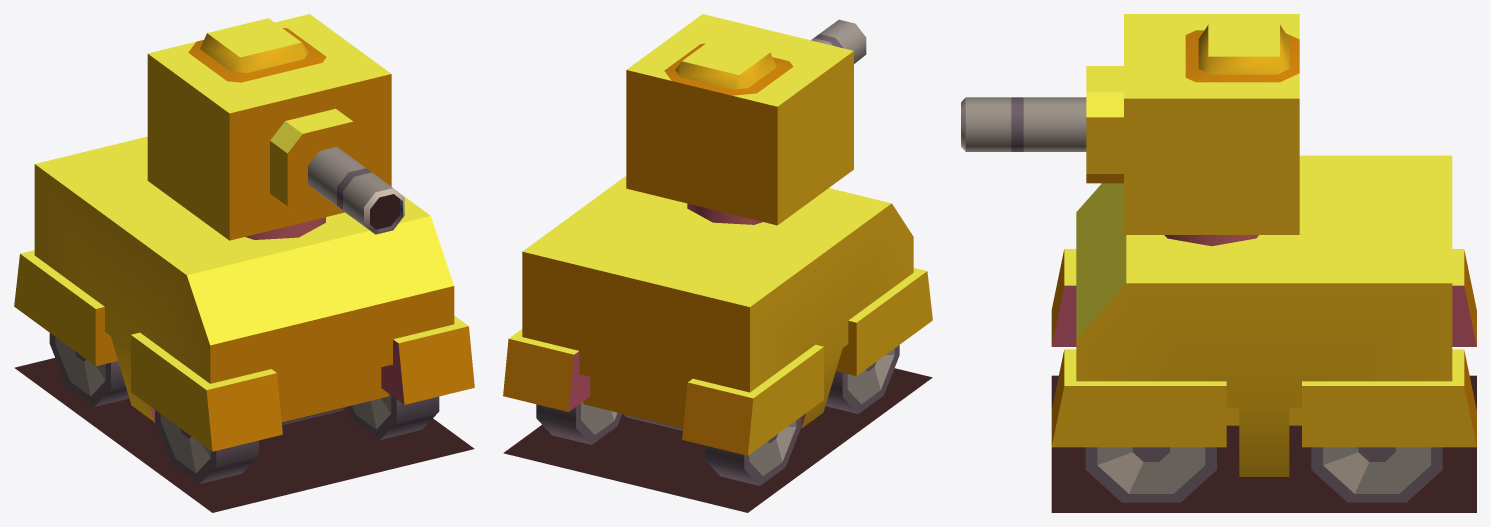
The model's file is ReconMesh.YellowComet.glb.
3 renders of one model, left to right at view 1: azimuth 30°, elevation 25°; view 2: azimuth 150°, elevation 25°; view 3: azimuth 270°, elevation 25°, orthographic. The views are drawn at different scales.
Parts seen in each view (by area): view 1: ReconMesh.YellowComet; view 2: ReconMesh.YellowComet; view 3: ReconMesh.YellowComet.
Part boxes in pixels (<box>): ReconMesh.YellowComet: <box>14,14,474,512</box>; ReconMesh.YellowComet: <box>503,14,932,512</box>; ReconMesh.YellowComet: <box>961,14,1476,512</box>.
Bounding box in the file's own units: 1.29 × 1.79 × 2.06.
1 material, 1 textured.
